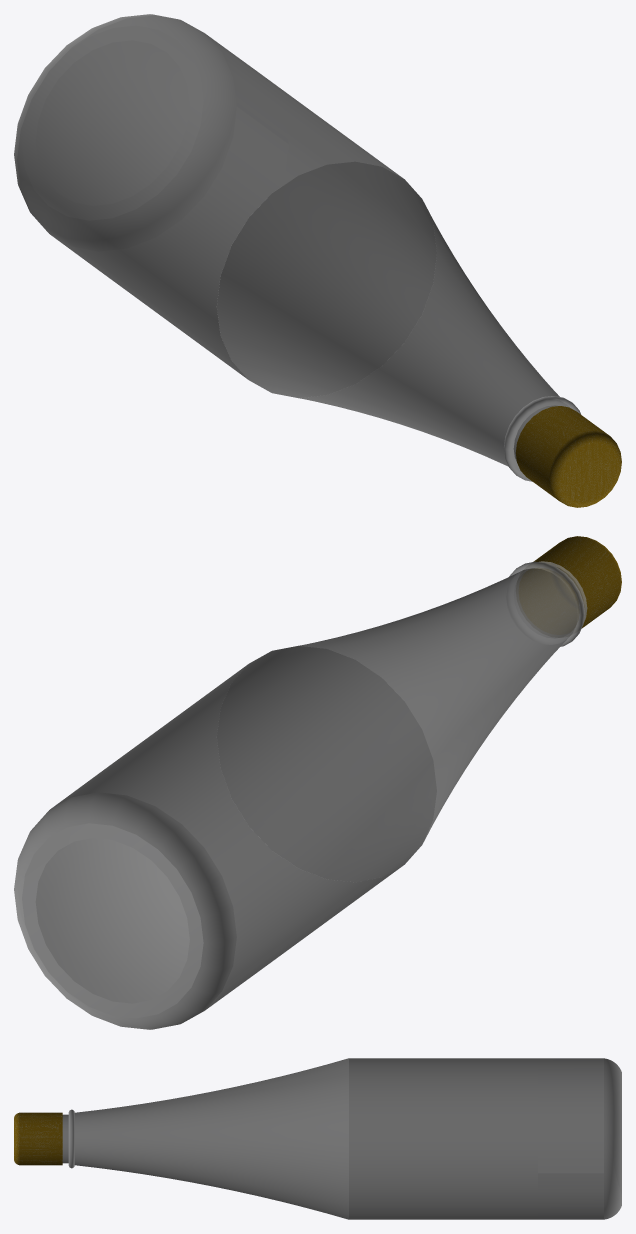
File: model_scale.obj
The picture shows the model from 3 angles, top to bottom: view 1: azimuth 30°, elevation 25°; view 2: azimuth 150°, elevation 25°; view 3: azimuth 270°, elevation 25°; orthographic projection. The views are drawn at different scales.
Parts seen in each view (by area): view 1: mesh2_mesh2-geometry, mesh1_mesh1-geometry; view 2: mesh2_mesh2-geometry, mesh1_mesh1-geometry; view 3: mesh2_mesh2-geometry, mesh1_mesh1-geometry.
Part boxes in pixels (x1,y1,x2,y2): mesh2_mesh2-geometry: (14,14,436,397); mesh1_mesh1-geometry: (217,161,621,507); mesh2_mesh2-geometry: (14,646,436,1029); mesh1_mesh1-geometry: (217,536,621,881); mesh2_mesh2-geometry: (349,1058,621,1219); mesh1_mesh1-geometry: (14,1058,348,1219).
Size of the model in its own units: 0.0652 by 0.0652 by 0.2446.
